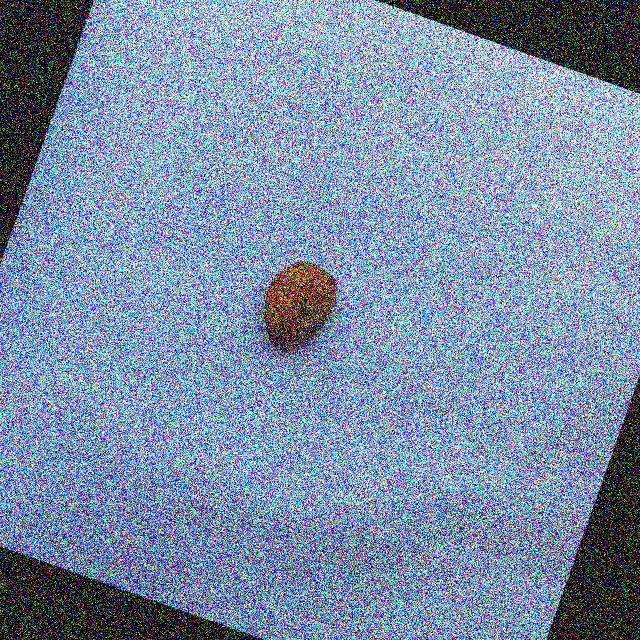grade3: (248, 248, 352, 365)
